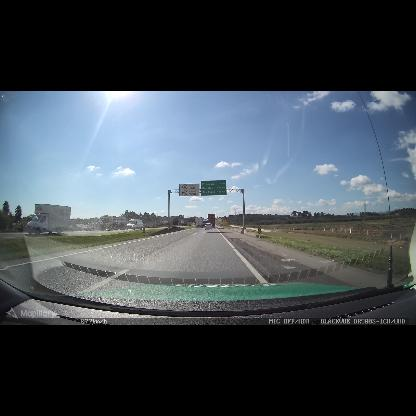O-MP: (258, 225, 261, 234), (143, 225, 145, 233)
R-19: (179, 184, 199, 196)
